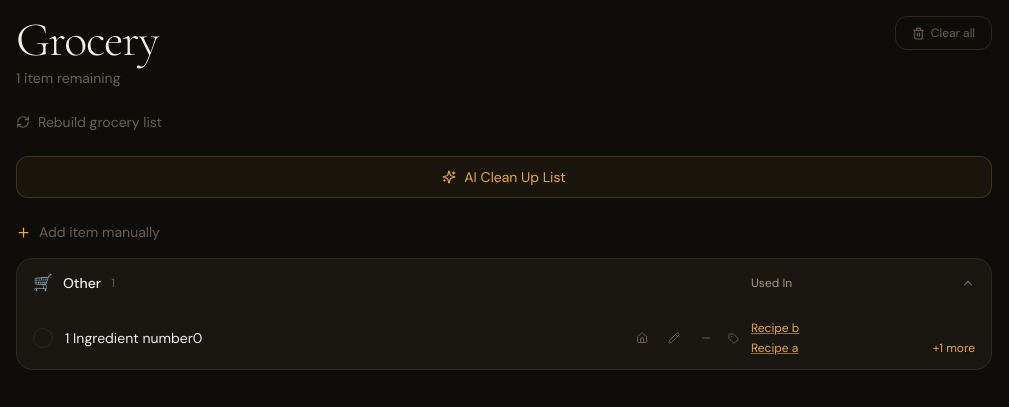
Test: grocery recipe provenance integration › deduplicates source identities in stored order without mutating grocery data
Expected: the link "Recipe b" is shown, [751,320,799,336]
Expected: the links read "Recipe b", "Recipe a", in this order, [751,320,799,336]; [751,340,798,356]
Click the button with aria-label "Show 1 more recipe for Ingredient number0". click: (954, 348)
box: [933,339,975,357]
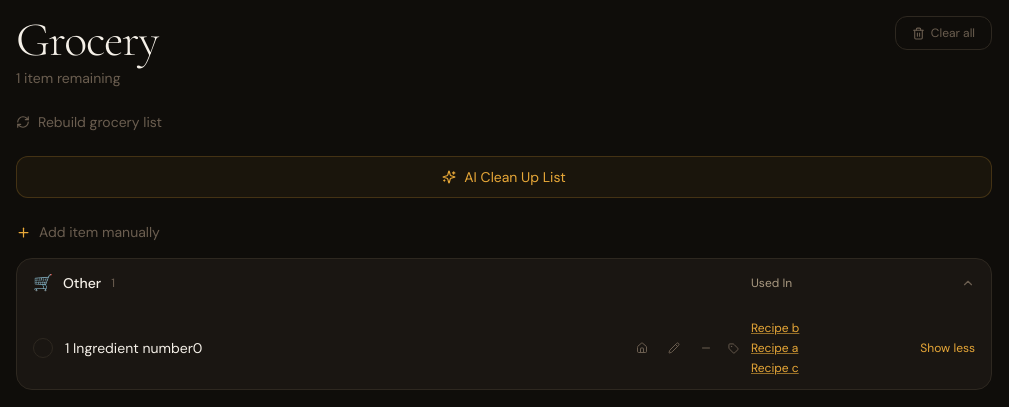
Now the links read "Recipe b", "Recipe a", "Recipe c", in this order, box [751,320,799,336]; [751,340,798,356]; [751,360,799,376]
